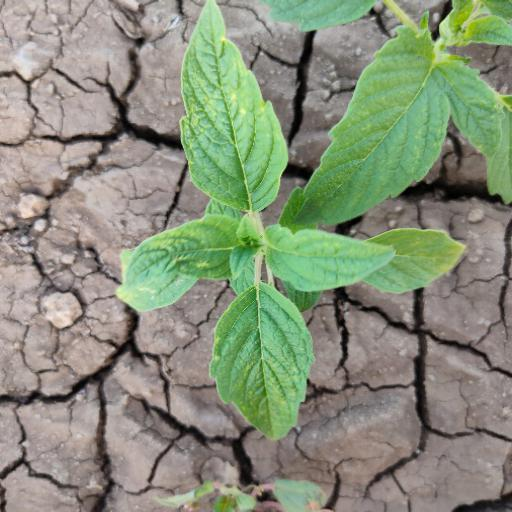crop: (108, 12, 477, 436), (253, 6, 512, 243)
